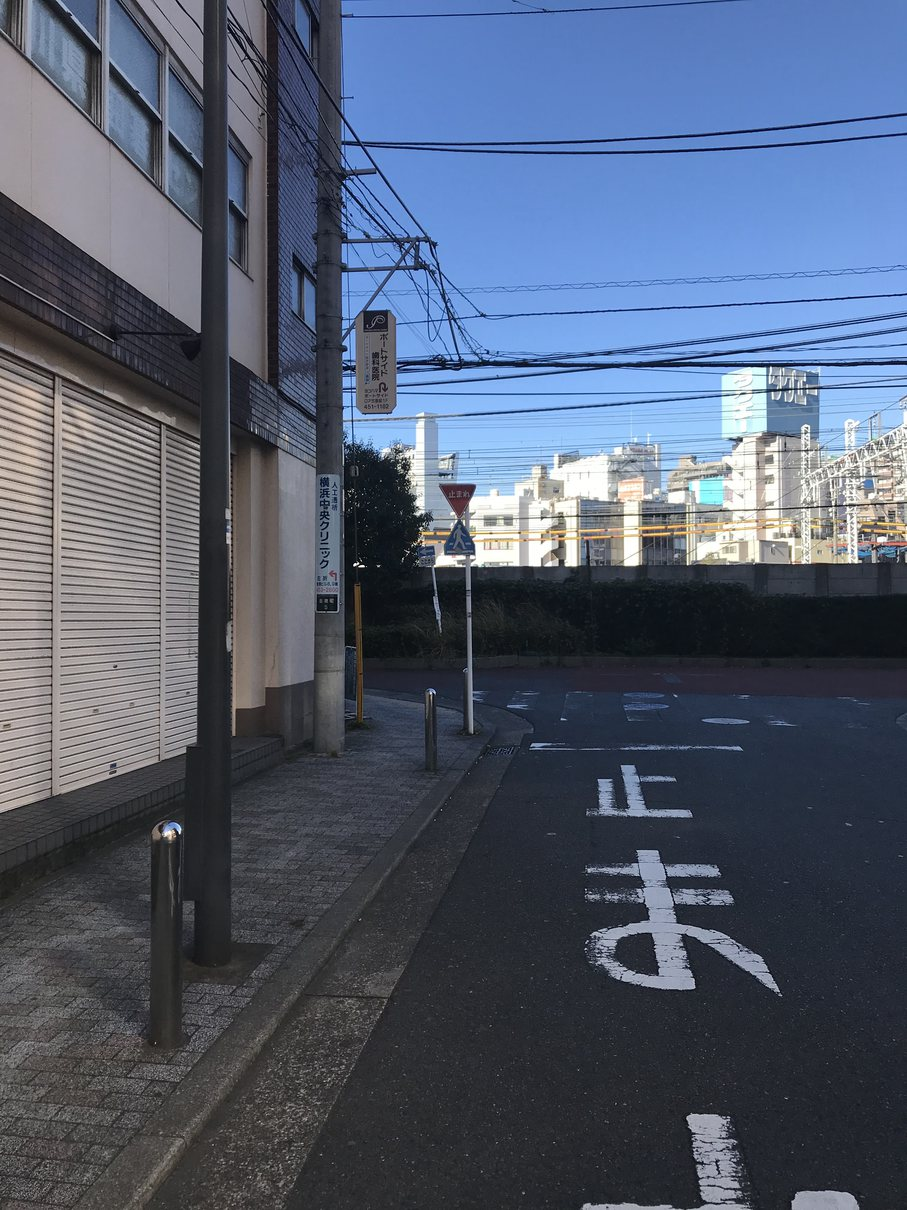stop_sign: (438, 481, 476, 518)
